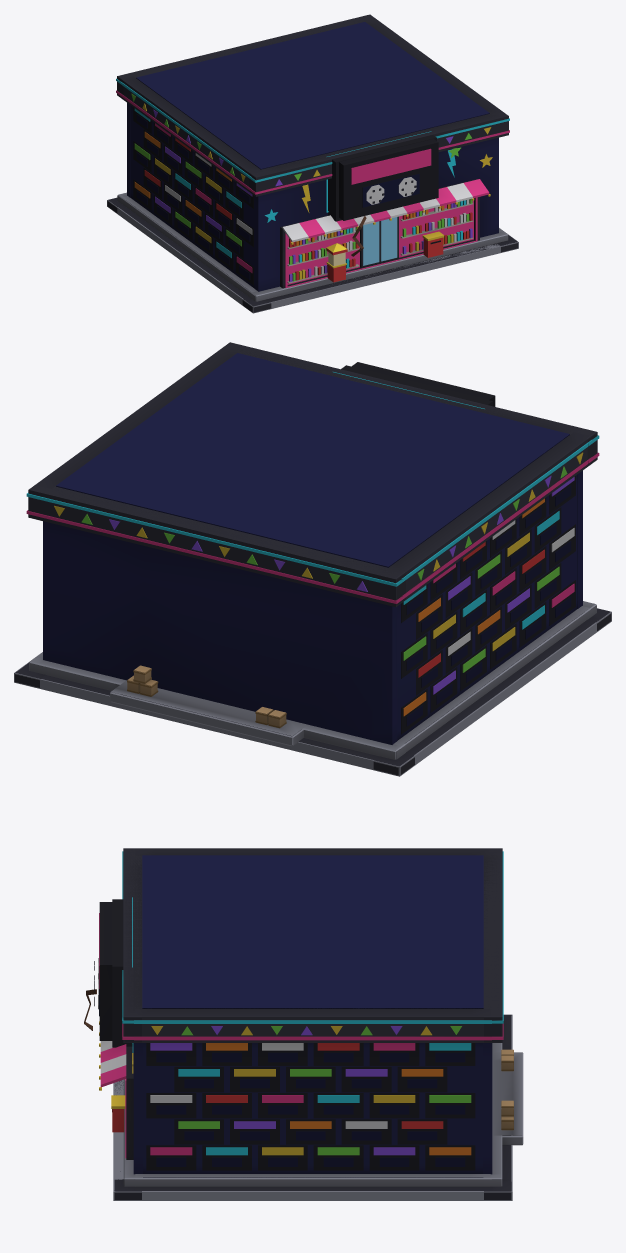
File: LivingCassetteFloor.fbx
3 renders of one model, top to bottom at view 1: azimuth 30°, elevation 25°; view 2: azimuth 150°, elevation 25°; view 3: azimuth 270°, elevation 25°, orthographic. The views are drawn at different scales.
Visible parts, largest first — view 1: LC_S_All, LC_F_Rings, LC_F_Smooth, LC_F_Props, LC_F_Glass; view 2: LC_S_All, LC_F_Rings, LC_F_Smooth, LC_F_Props; view 3: LC_S_All, LC_F_Rings, LC_F_Smooth, LC_F_Props.
Boxes of the visible parts, x1,y1,x2,y2 form: LC_S_All: (107, 14, 518, 313); LC_F_Rings: (108, 15, 517, 306); LC_F_Smooth: (107, 76, 517, 312); LC_F_Props: (133, 107, 488, 285); LC_F_Glass: (265, 131, 492, 287); LC_S_All: (14, 342, 611, 776); LC_F_Rings: (16, 343, 609, 766); LC_F_Smooth: (15, 432, 611, 775); LC_F_Props: (127, 476, 575, 734); LC_S_All: (112, 848, 512, 1200); LC_F_Rings: (99, 848, 523, 1191); LC_F_Smooth: (84, 851, 523, 1199); LC_F_Props: (84, 1004, 513, 1170).
Size of the model in its own units: 60 by 20 by 60.
